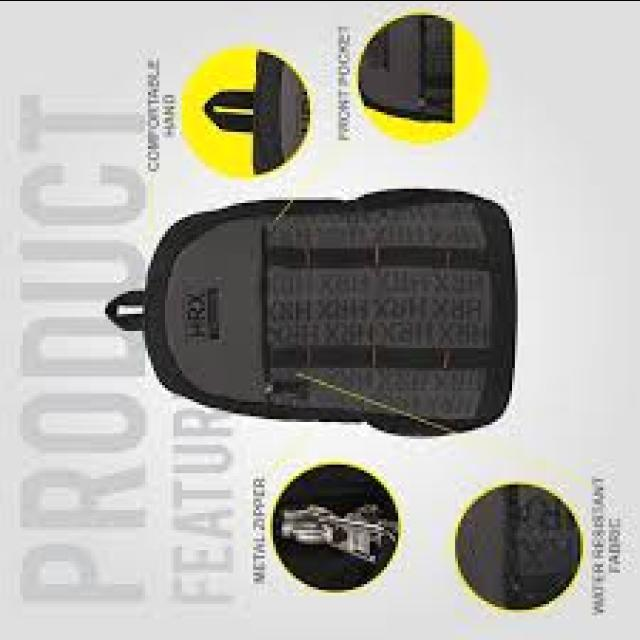backpack: (104, 189, 516, 439)
